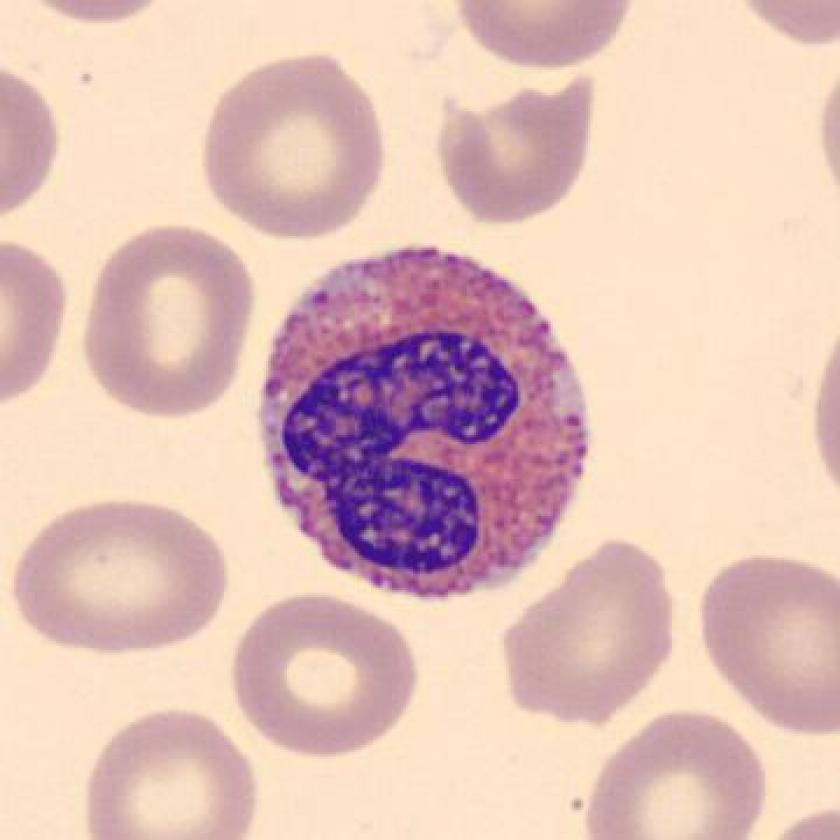eosinophil: (253, 240, 603, 617)
